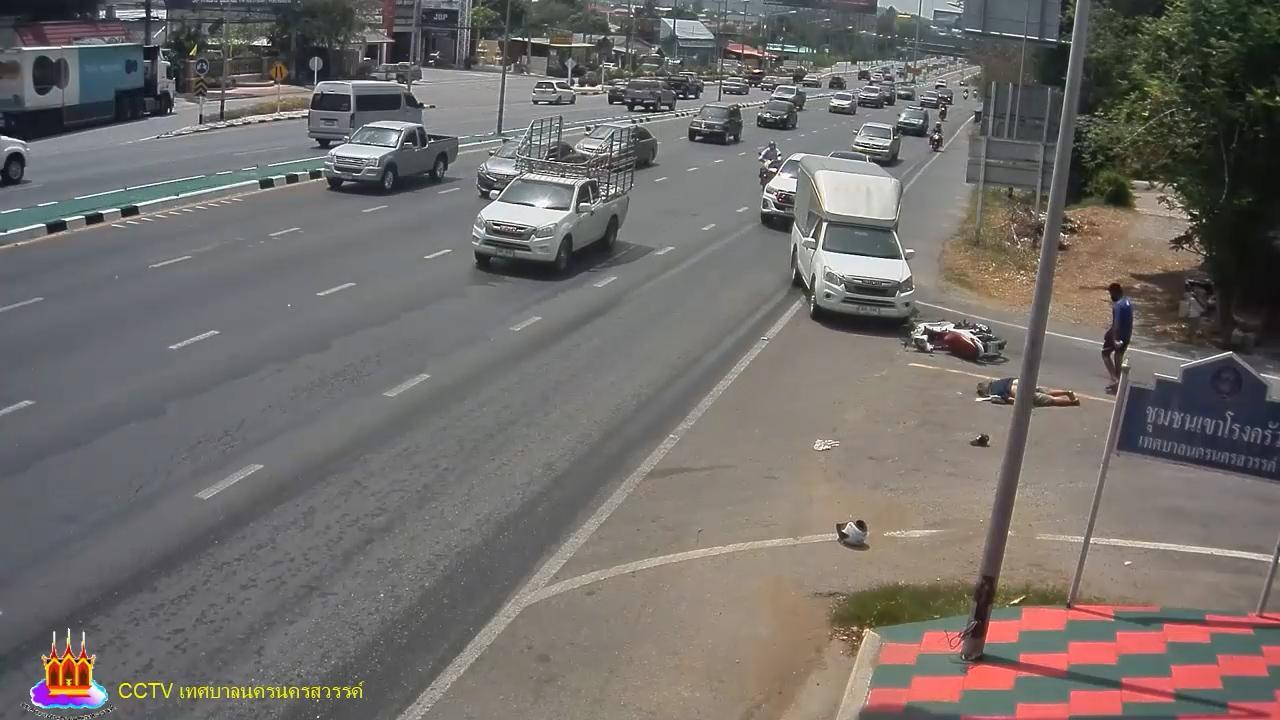accident: (974, 371, 1084, 410)
